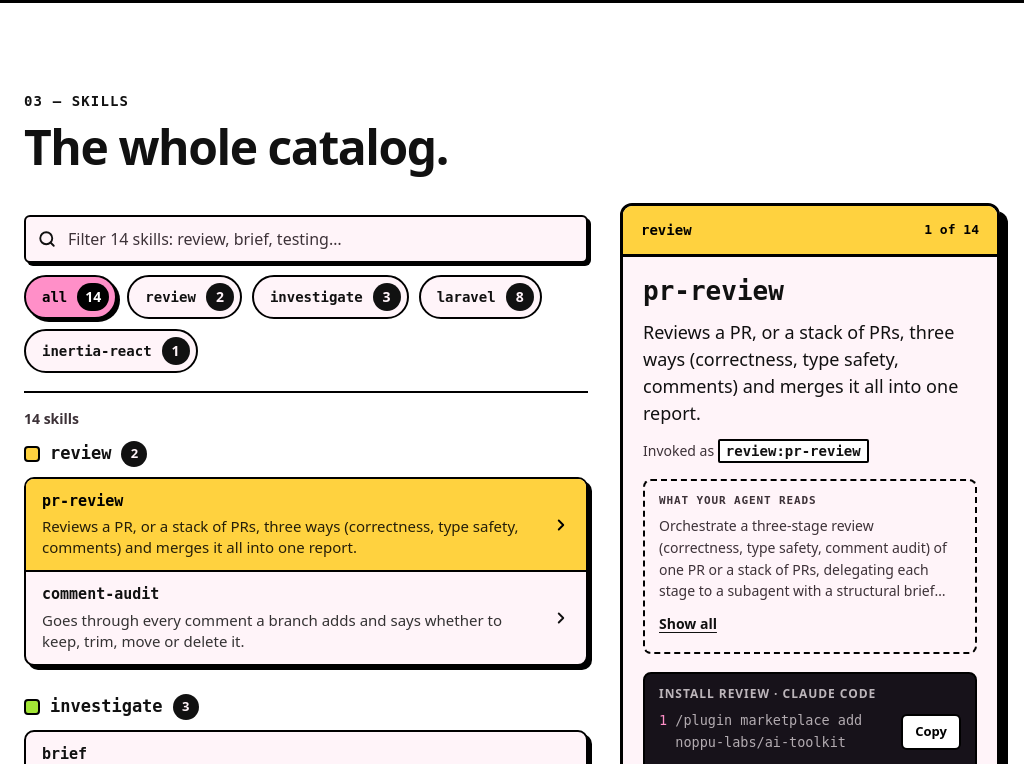
Test: SkillsCatalog list › shows an empty state and clears both the query and the chip
Step 1. Click the button "review 2" → (185, 297), box [127,275,242,319]
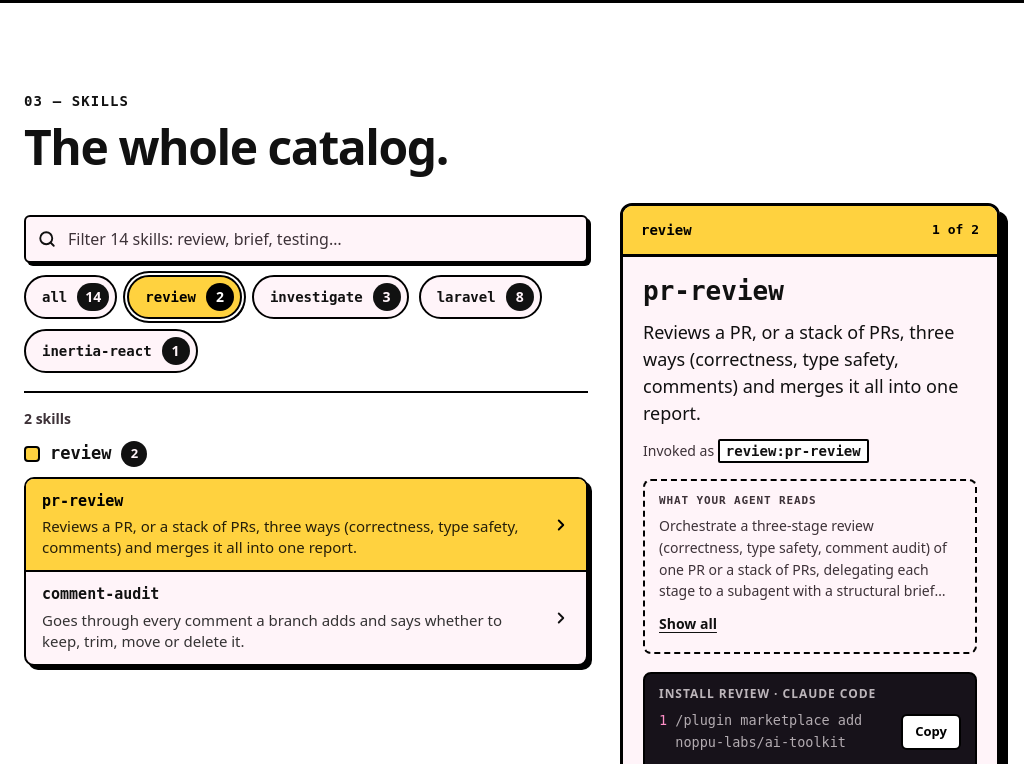
Step 2. Type "spatie" into the search field named "Filter skills" → (306, 239), box [24,215,588,263]
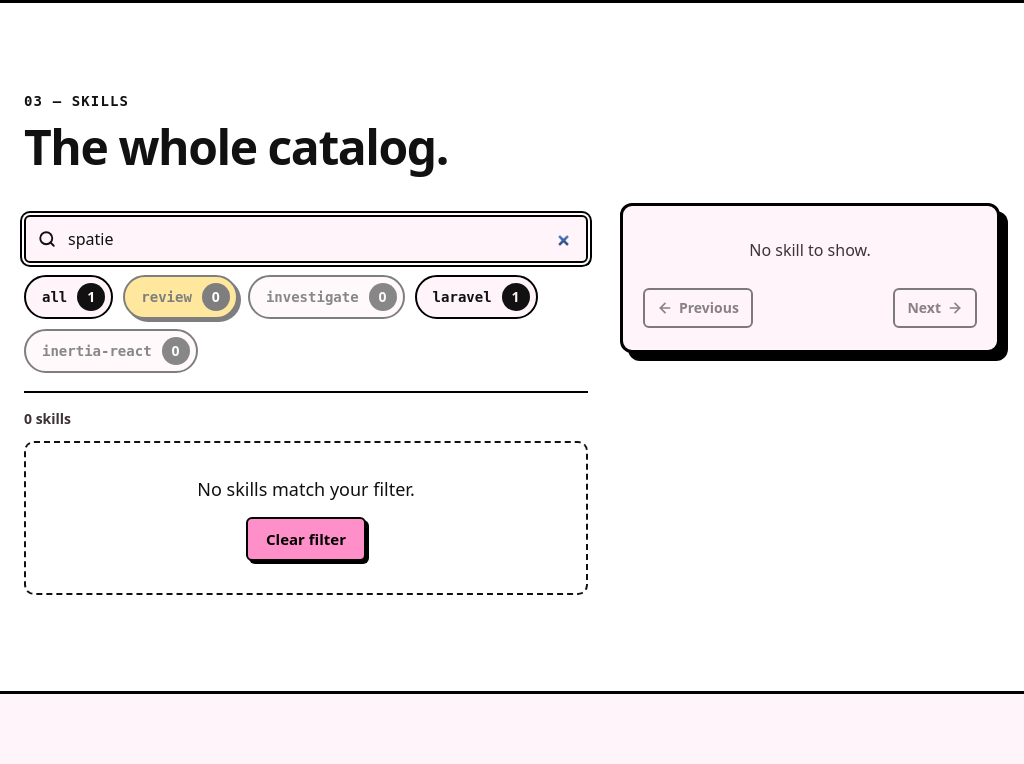
Step 3. Click the button "Clear filter" → (306, 539), box [246,517,366,561]
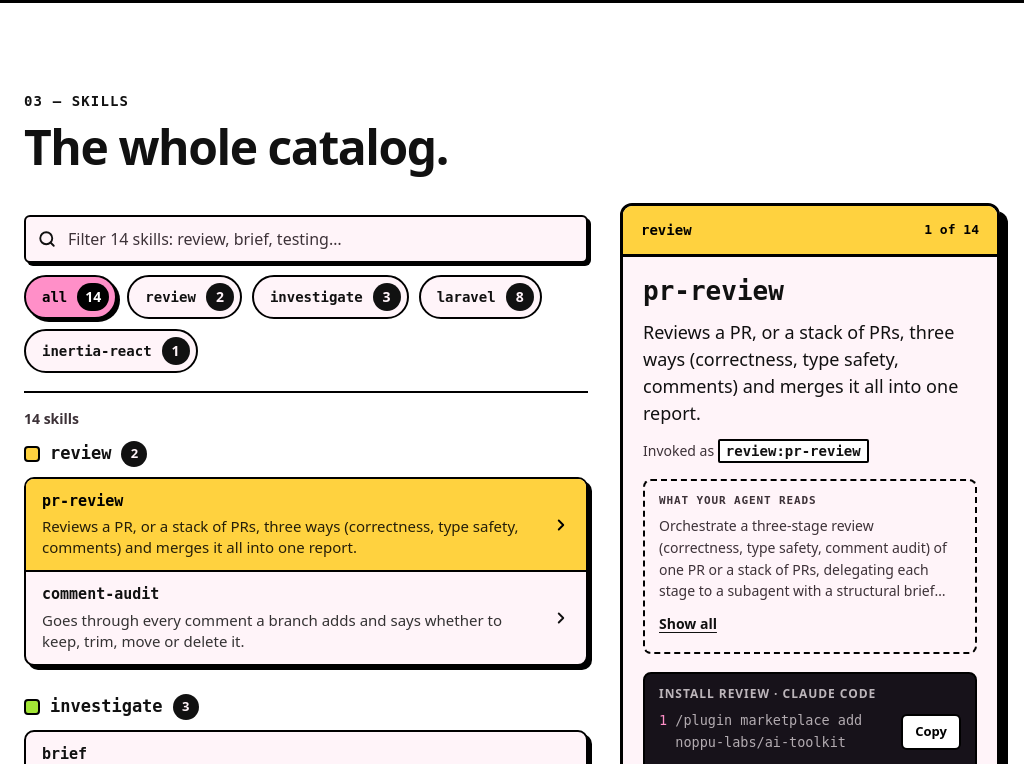
Check: the search field named "Filter skills" is empty, box [24,215,588,263]
